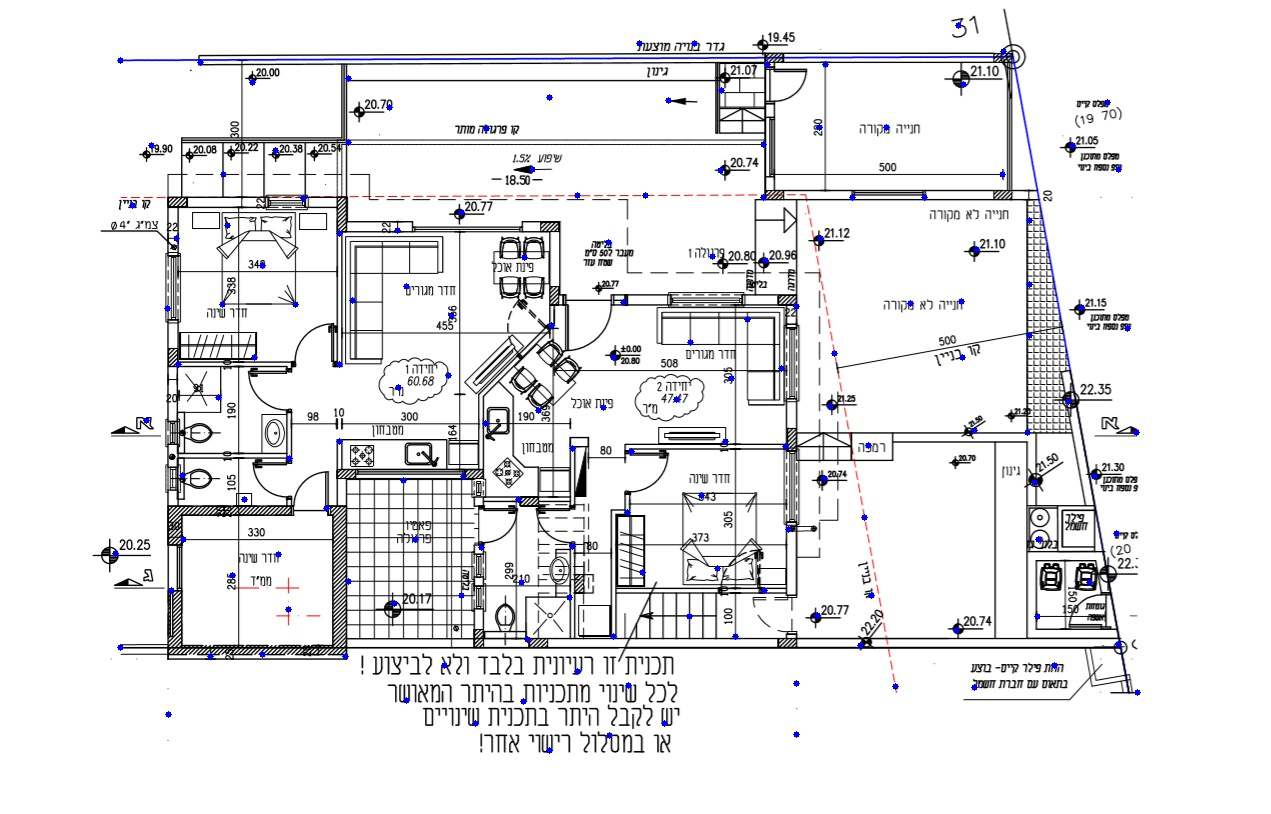balcony: (758, 52, 1016, 200)
basin: (176, 465, 222, 501), (176, 413, 224, 445), (492, 594, 518, 631), (264, 418, 284, 450)
dining table: (488, 233, 550, 306)
door: (497, 301, 541, 361), (563, 296, 610, 351), (290, 312, 336, 367), (292, 463, 327, 523), (628, 449, 671, 497), (533, 506, 581, 546), (744, 596, 797, 632), (475, 505, 520, 545), (768, 66, 813, 102)
room: (161, 194, 351, 376)
sofa: (349, 239, 448, 278)
wall: (167, 641, 346, 661), (328, 515, 348, 649)
window: (778, 445, 805, 526), (161, 250, 185, 327), (781, 323, 803, 406), (663, 289, 749, 310), (263, 193, 313, 211)
